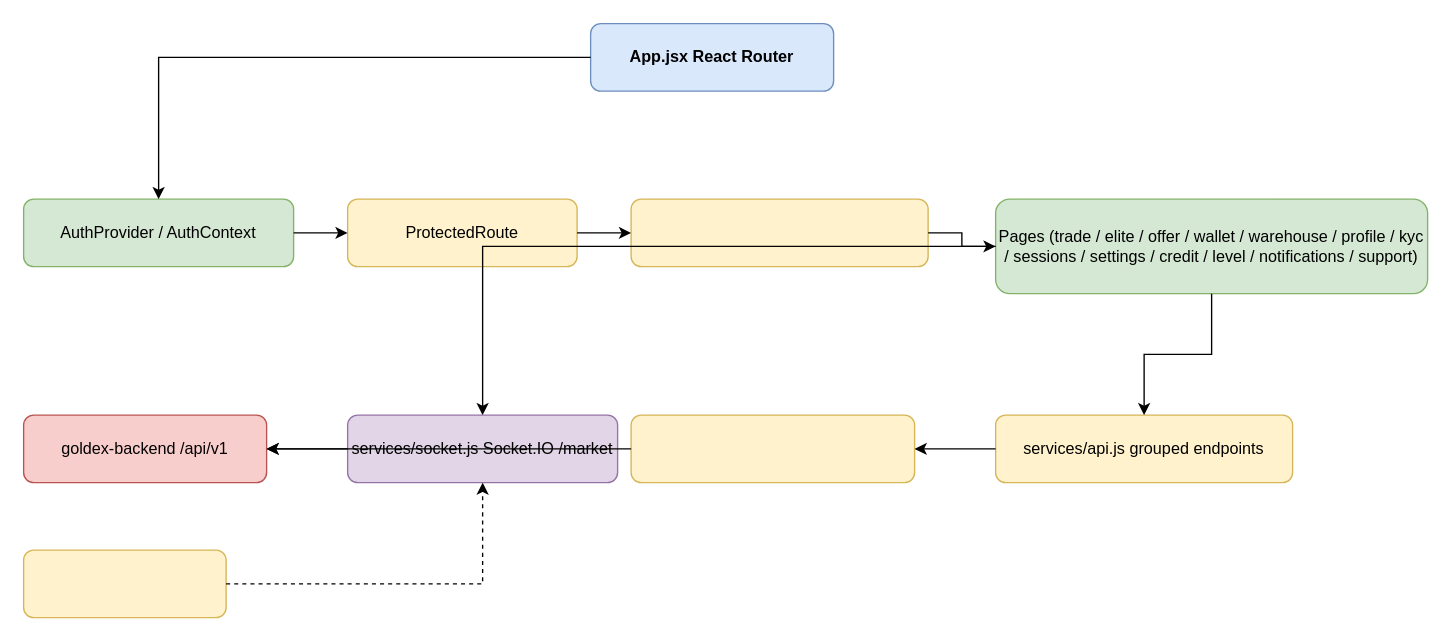
Image size: 1451x641. Some labels were removed from this diagram. Here are the shapes that lost their labels. From the top down, the centre of each, then its label:
At (x=779, y=232): "AppLayout + Sidebar + BottomNav".
At (x=772, y=448): "services/http.js axios + token".
At (x=124, y=583): "useMarketPrices hook".
